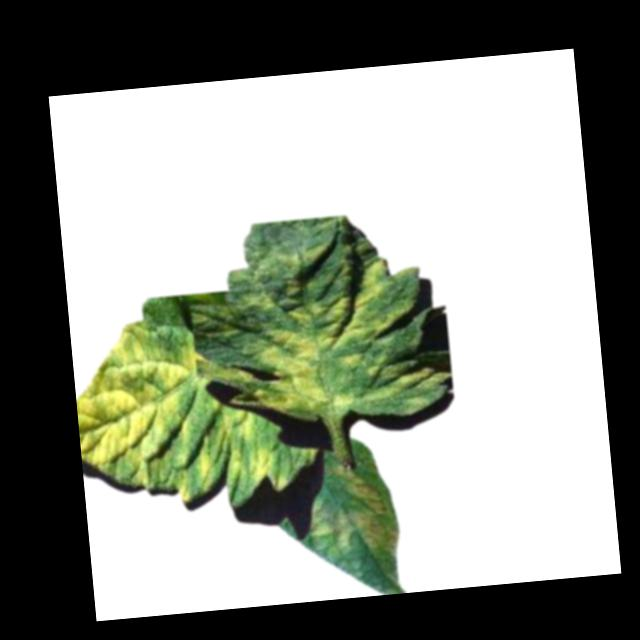Leaf_Mold: (70, 309, 278, 509), (243, 233, 451, 421), (305, 460, 401, 561)
